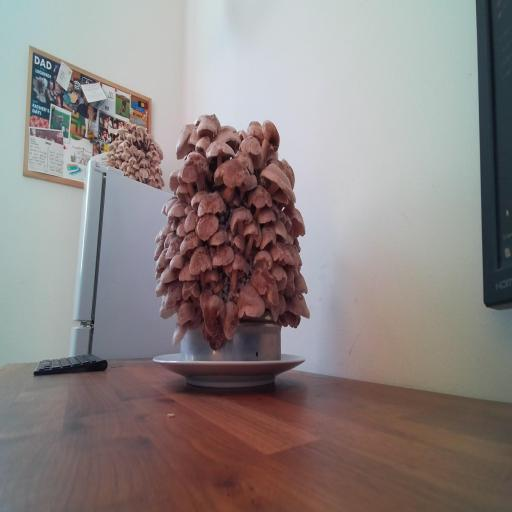Shiitake Mushroom: (200, 146, 264, 207), (249, 153, 308, 215), (241, 260, 293, 310), (180, 237, 222, 290), (195, 280, 231, 339), (229, 128, 276, 172), (249, 112, 287, 163), (218, 246, 257, 295), (221, 196, 260, 243), (186, 204, 228, 246), (176, 145, 212, 193), (280, 195, 311, 245), (171, 224, 209, 263), (236, 214, 267, 259), (244, 178, 276, 220), (264, 258, 294, 295), (157, 230, 189, 263), (281, 289, 316, 319), (208, 121, 243, 151), (169, 296, 202, 327), (240, 115, 273, 146), (237, 282, 265, 318), (174, 118, 196, 163), (232, 172, 263, 203), (229, 145, 262, 174), (185, 180, 213, 214), (194, 189, 229, 216), (266, 241, 301, 268), (177, 206, 205, 238), (204, 139, 237, 166), (165, 316, 191, 350), (199, 320, 225, 352), (284, 237, 307, 273), (182, 304, 206, 338), (279, 152, 300, 190), (191, 128, 215, 160), (154, 260, 184, 285), (222, 300, 240, 341), (209, 242, 237, 267), (163, 278, 185, 309), (290, 269, 311, 301), (275, 308, 304, 330), (228, 229, 251, 256), (164, 165, 185, 194), (205, 226, 232, 248), (155, 301, 181, 323), (268, 217, 293, 239), (257, 223, 277, 250), (194, 113, 222, 132), (196, 115, 218, 139), (165, 198, 190, 219), (160, 190, 181, 215), (148, 237, 168, 262), (155, 219, 176, 242), (159, 226, 179, 250), (184, 125, 203, 150), (253, 248, 273, 271), (257, 204, 277, 227), (225, 192, 245, 215), (175, 179, 193, 204), (152, 247, 170, 272), (182, 281, 200, 305), (178, 260, 197, 281), (278, 231, 297, 252), (154, 278, 169, 301), (169, 250, 185, 270), (268, 158, 288, 174), (271, 191, 289, 208), (266, 143, 279, 166), (280, 214, 295, 233), (203, 267, 220, 283), (275, 208, 291, 224), (268, 303, 280, 322), (271, 201, 280, 222), (152, 233, 165, 247), (282, 281, 294, 296), (176, 219, 186, 237), (237, 126, 248, 142), (279, 292, 286, 315), (170, 220, 181, 232), (161, 202, 166, 214), (155, 271, 162, 279)
